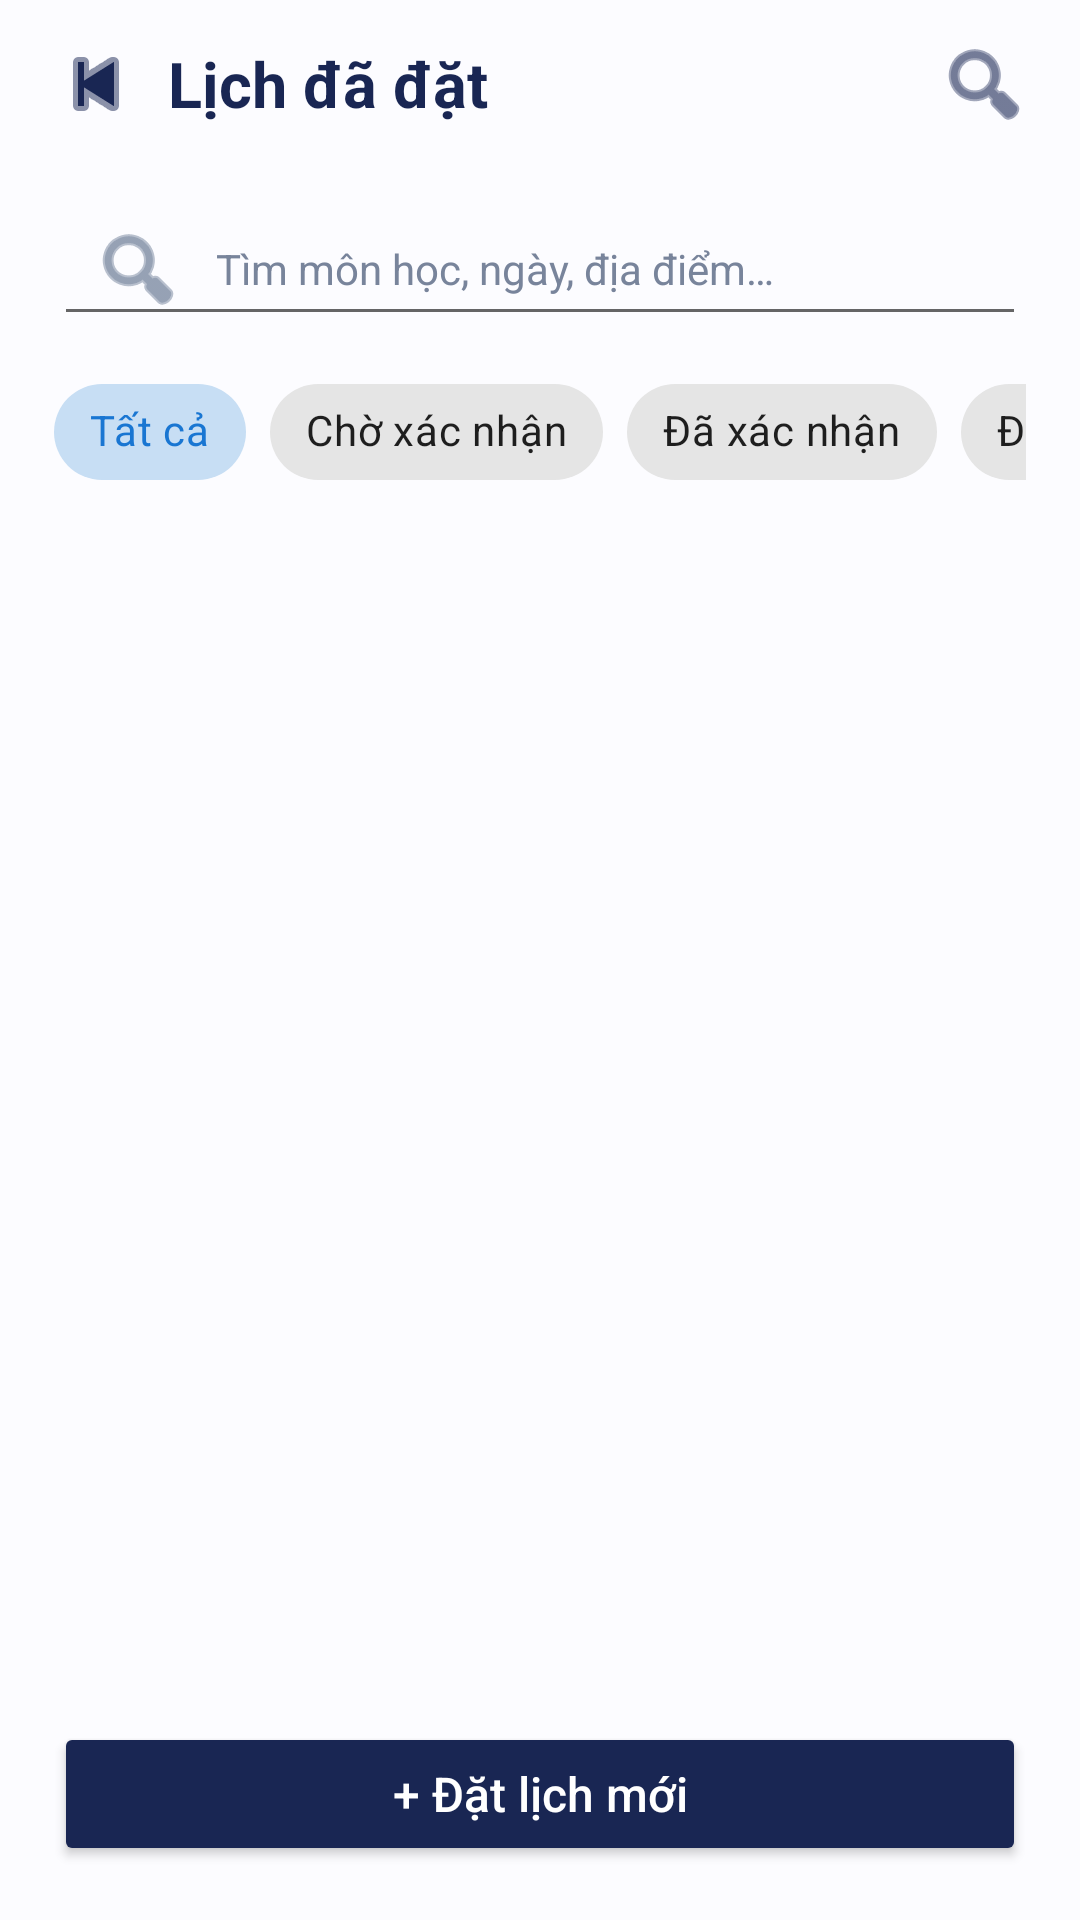

Icon click points for this 1080px x 1920px phone screenshot, format (x=x, y=y):
Quay lại: (x=96, y=84)
Tìm kiếm lịch học: (x=983, y=84)
